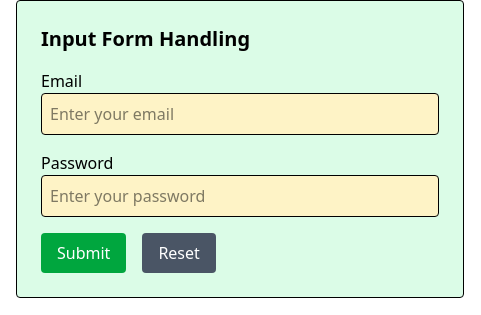
Test case: InputFormHandling › resets form correctly
Type "test@example.com" into the field labelled "Email" at (240, 114), box top-left (41, 93), bottom-right (439, 135)
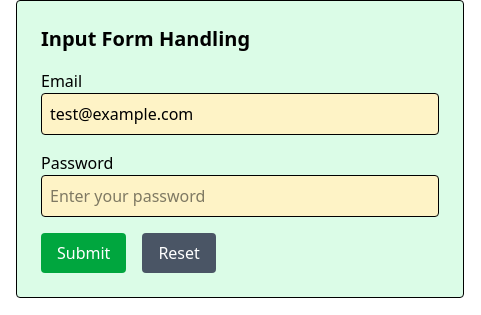
Type "123456" into the password field labelled "Password" at (240, 196), box top-left (41, 175), bottom-right (439, 217)
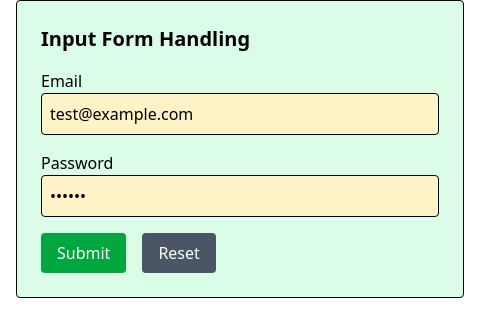
Click the button "Reset" at (179, 253), box top-left (142, 233), bottom-right (216, 273)
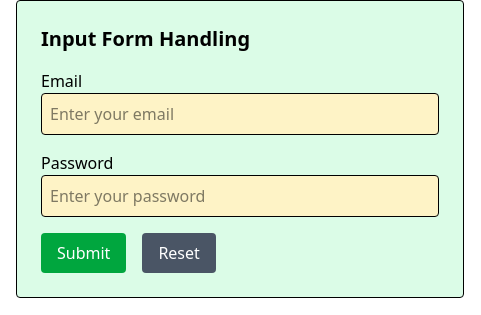
Check: the field labelled "Email" is empty, box top-left (41, 93), bottom-right (439, 135)
Check: the password field labelled "Password" is empty, box top-left (41, 175), bottom-right (439, 217)
